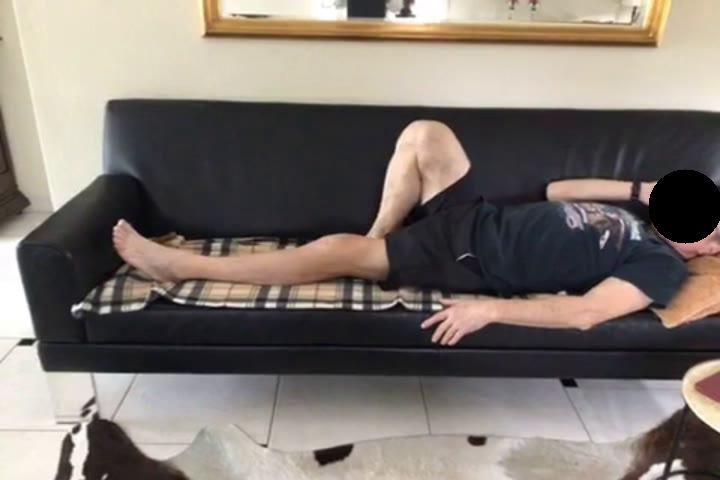lower_body: (111, 119, 485, 296)
